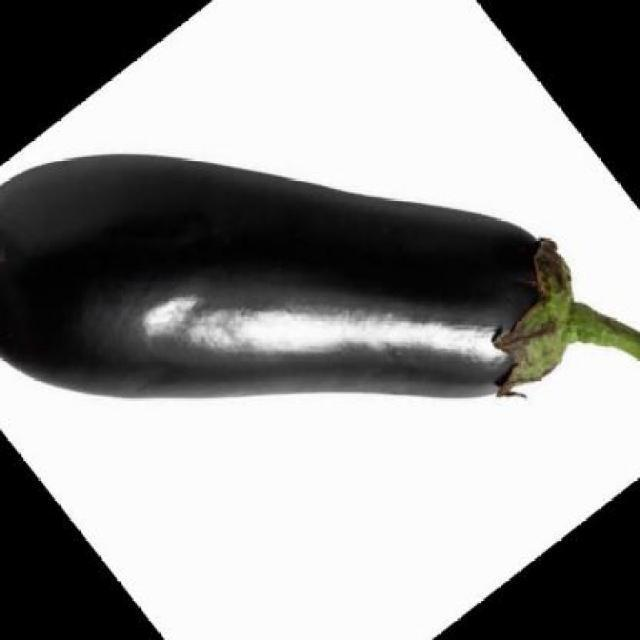eggplant: (1, 122, 640, 466)
